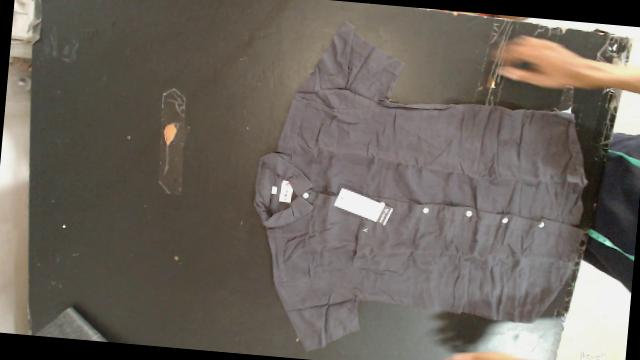new-garment: (254, 23, 587, 350)
